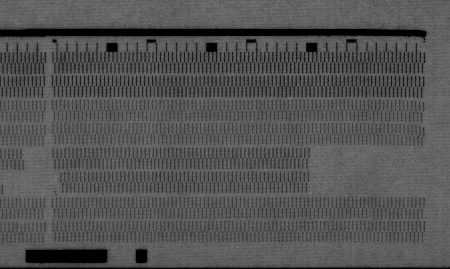Broken hole: (305, 149, 428, 196), (2, 171, 64, 199), (18, 146, 46, 172)
